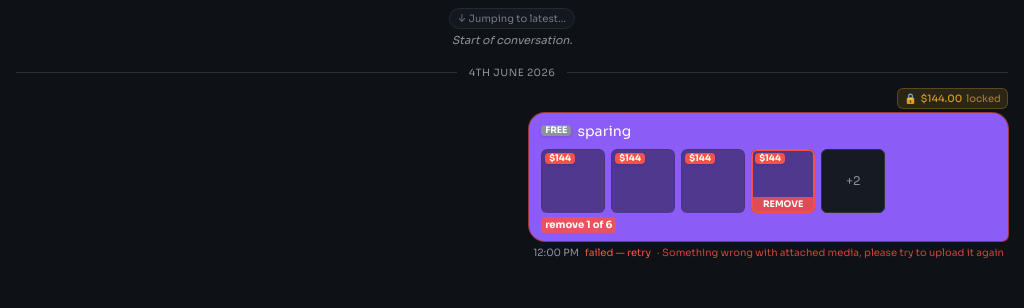
Scenario: MessageList refused-attachment marking › keeps a refused tile in the COLLAPSED set, and still collapses
Click the button "+2".
click(853, 180)  # box [821, 148, 885, 212]
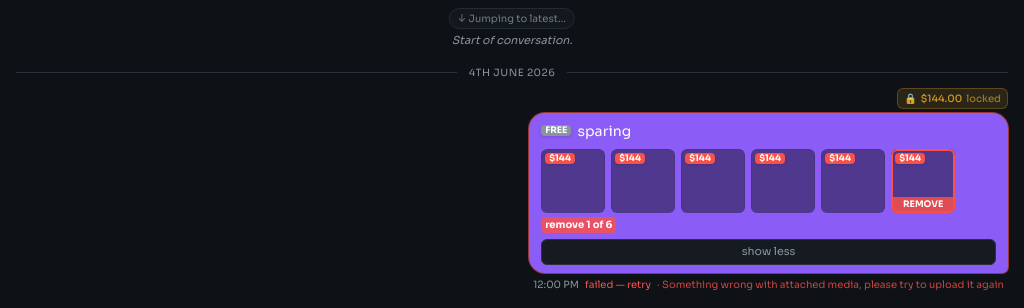
Expected: the text "+2" is gone
Expected: the button "show less" is shown
Click the button "show less".
click(769, 252)  # box [541, 239, 996, 265]
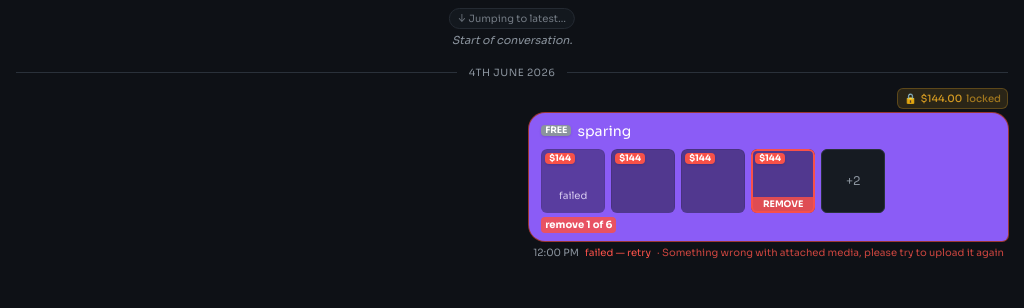
Expected: the text "+2" is shown, [821, 148, 885, 212]
